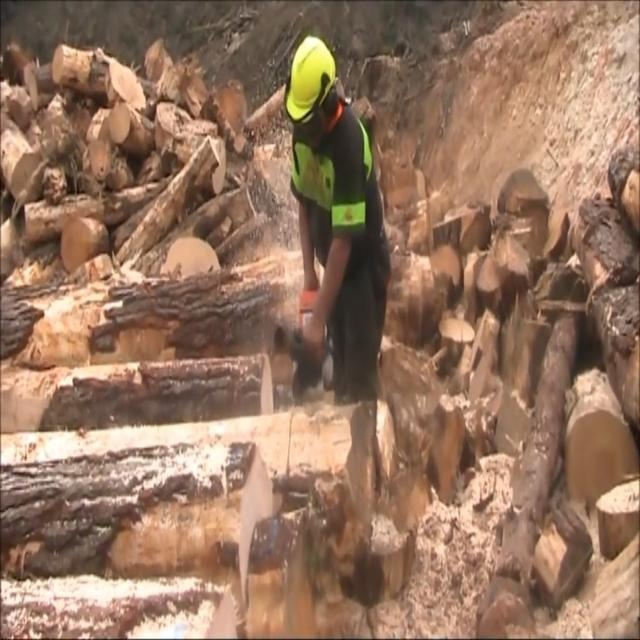Chainsaw: (262, 276, 338, 424)
